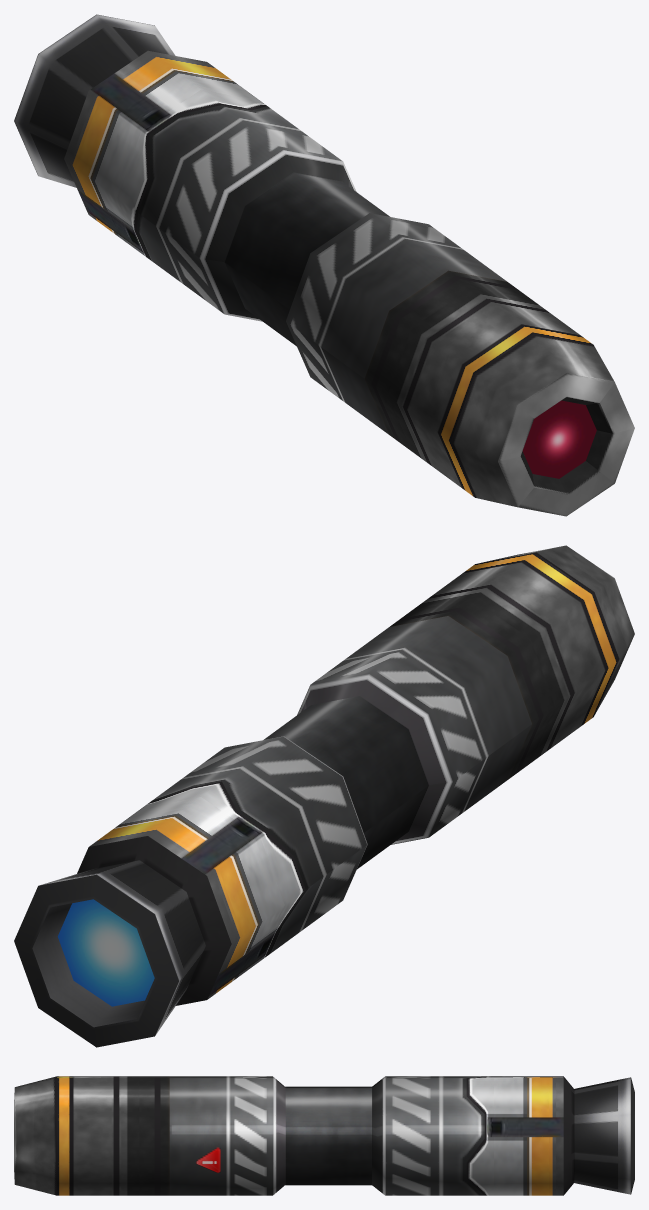
Rendered from drone03_rocket_R.FBX.
The picture shows the model from 3 angles, top to bottom: view 1: azimuth 30°, elevation 25°; view 2: azimuth 150°, elevation 25°; view 3: azimuth 270°, elevation 25°; orthographic projection. The views are drawn at different scales.
Parts seen in each view (by area): view 1: drone03_rocket_R; view 2: drone03_rocket_R; view 3: drone03_rocket_R.
Part boxes in pixels (x1=…): drone03_rocket_R: x1=14, y1=14, x2=634, y2=516; drone03_rocket_R: x1=14, y1=545, x2=634, y2=1047; drone03_rocket_R: x1=14, y1=1076, x2=634, y2=1195.
Size of the model in its own units: 0.3143 by 0.3143 by 1.54.
